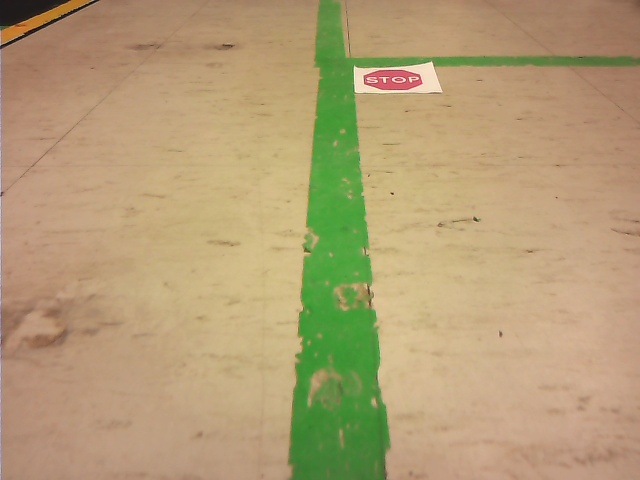STOP: (365, 70, 422, 89)
